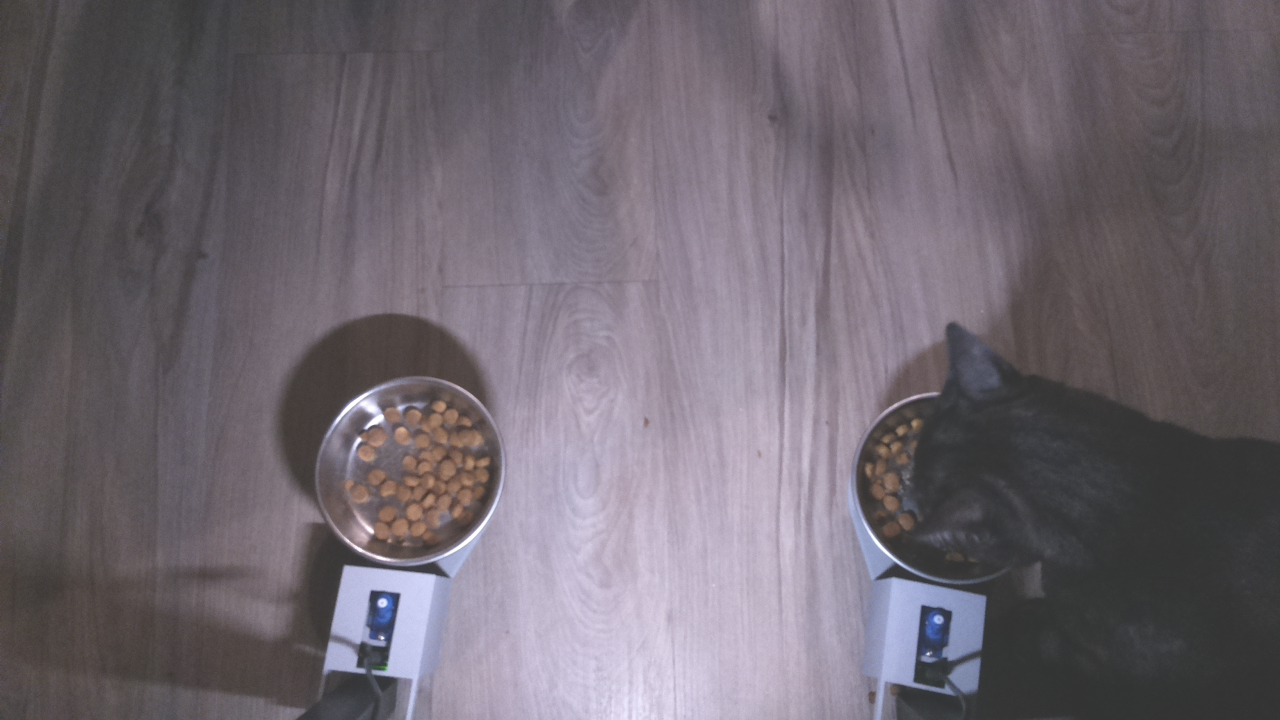open_bowl: (312, 375, 515, 570)
saki_eating: (857, 325, 1149, 590)
